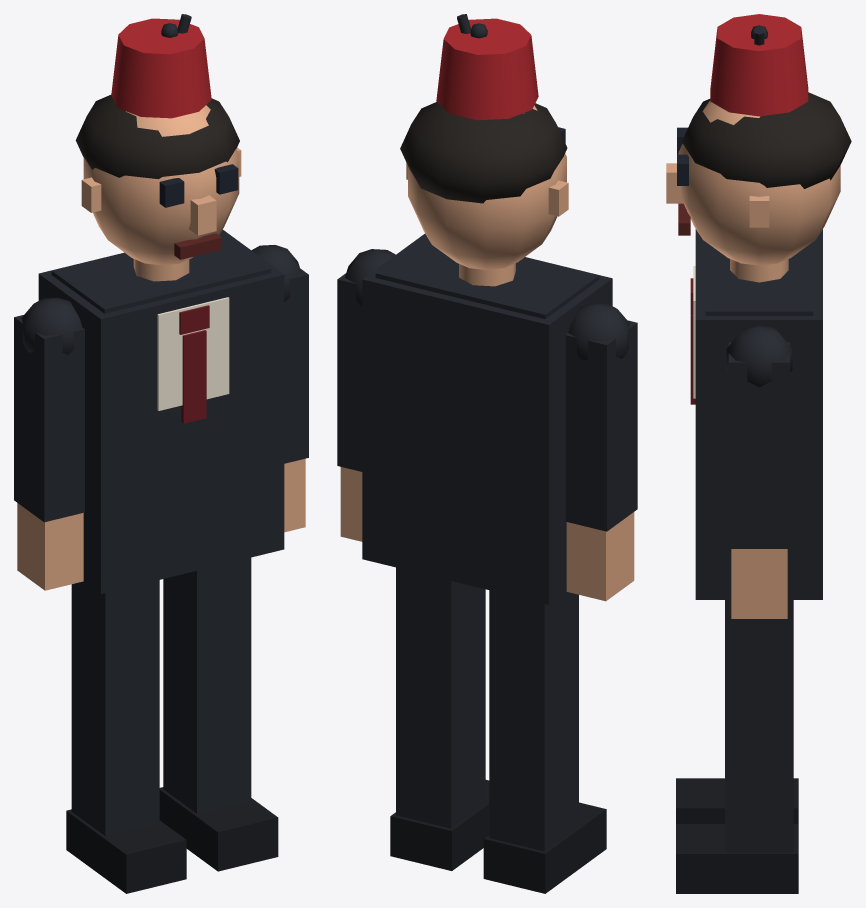
The model's file is tolga.glb.
3 views of the same model, side by side, from view 1: azimuth 30°, elevation 25°; view 2: azimuth 150°, elevation 25°; view 3: azimuth 270°, elevation 25° (orthographic).
Parts seen in each view (by area): view 1: Body, LegR, LegL, Head, ArmR, Hat, ArmL, Mouth; view 2: Body, LegR, LegL, Head, ArmR, Hat, ArmL; view 3: Body, LegL, Head, ArmL, Hat, LegR.
Boxes of the visible parts, x1,y1,x2,y2 form: Body: [38, 230, 284, 593]; LegR: [66, 580, 186, 893]; LegL: [159, 557, 278, 871]; Head: [75, 95, 241, 265]; ArmR: [14, 297, 84, 590]; Hat: [111, 14, 211, 118]; ArmL: [251, 245, 308, 532]; Mouth: [174, 233, 221, 259]; Body: [362, 233, 612, 604]; LegR: [483, 590, 606, 893]; LegL: [390, 567, 489, 870]; Head: [400, 102, 568, 269]; ArmR: [565, 303, 637, 601]; Hat: [436, 14, 538, 120]; ArmL: [337, 249, 395, 541]; Body: [690, 229, 822, 599]; LegL: [676, 600, 798, 893]; Head: [666, 92, 851, 265]; ArmL: [726, 325, 792, 618]; Hat: [710, 14, 808, 116]; LegR: [676, 778, 798, 823].
Size of the model in its own units: 0.6556 by 1.89 by 0.3784.
